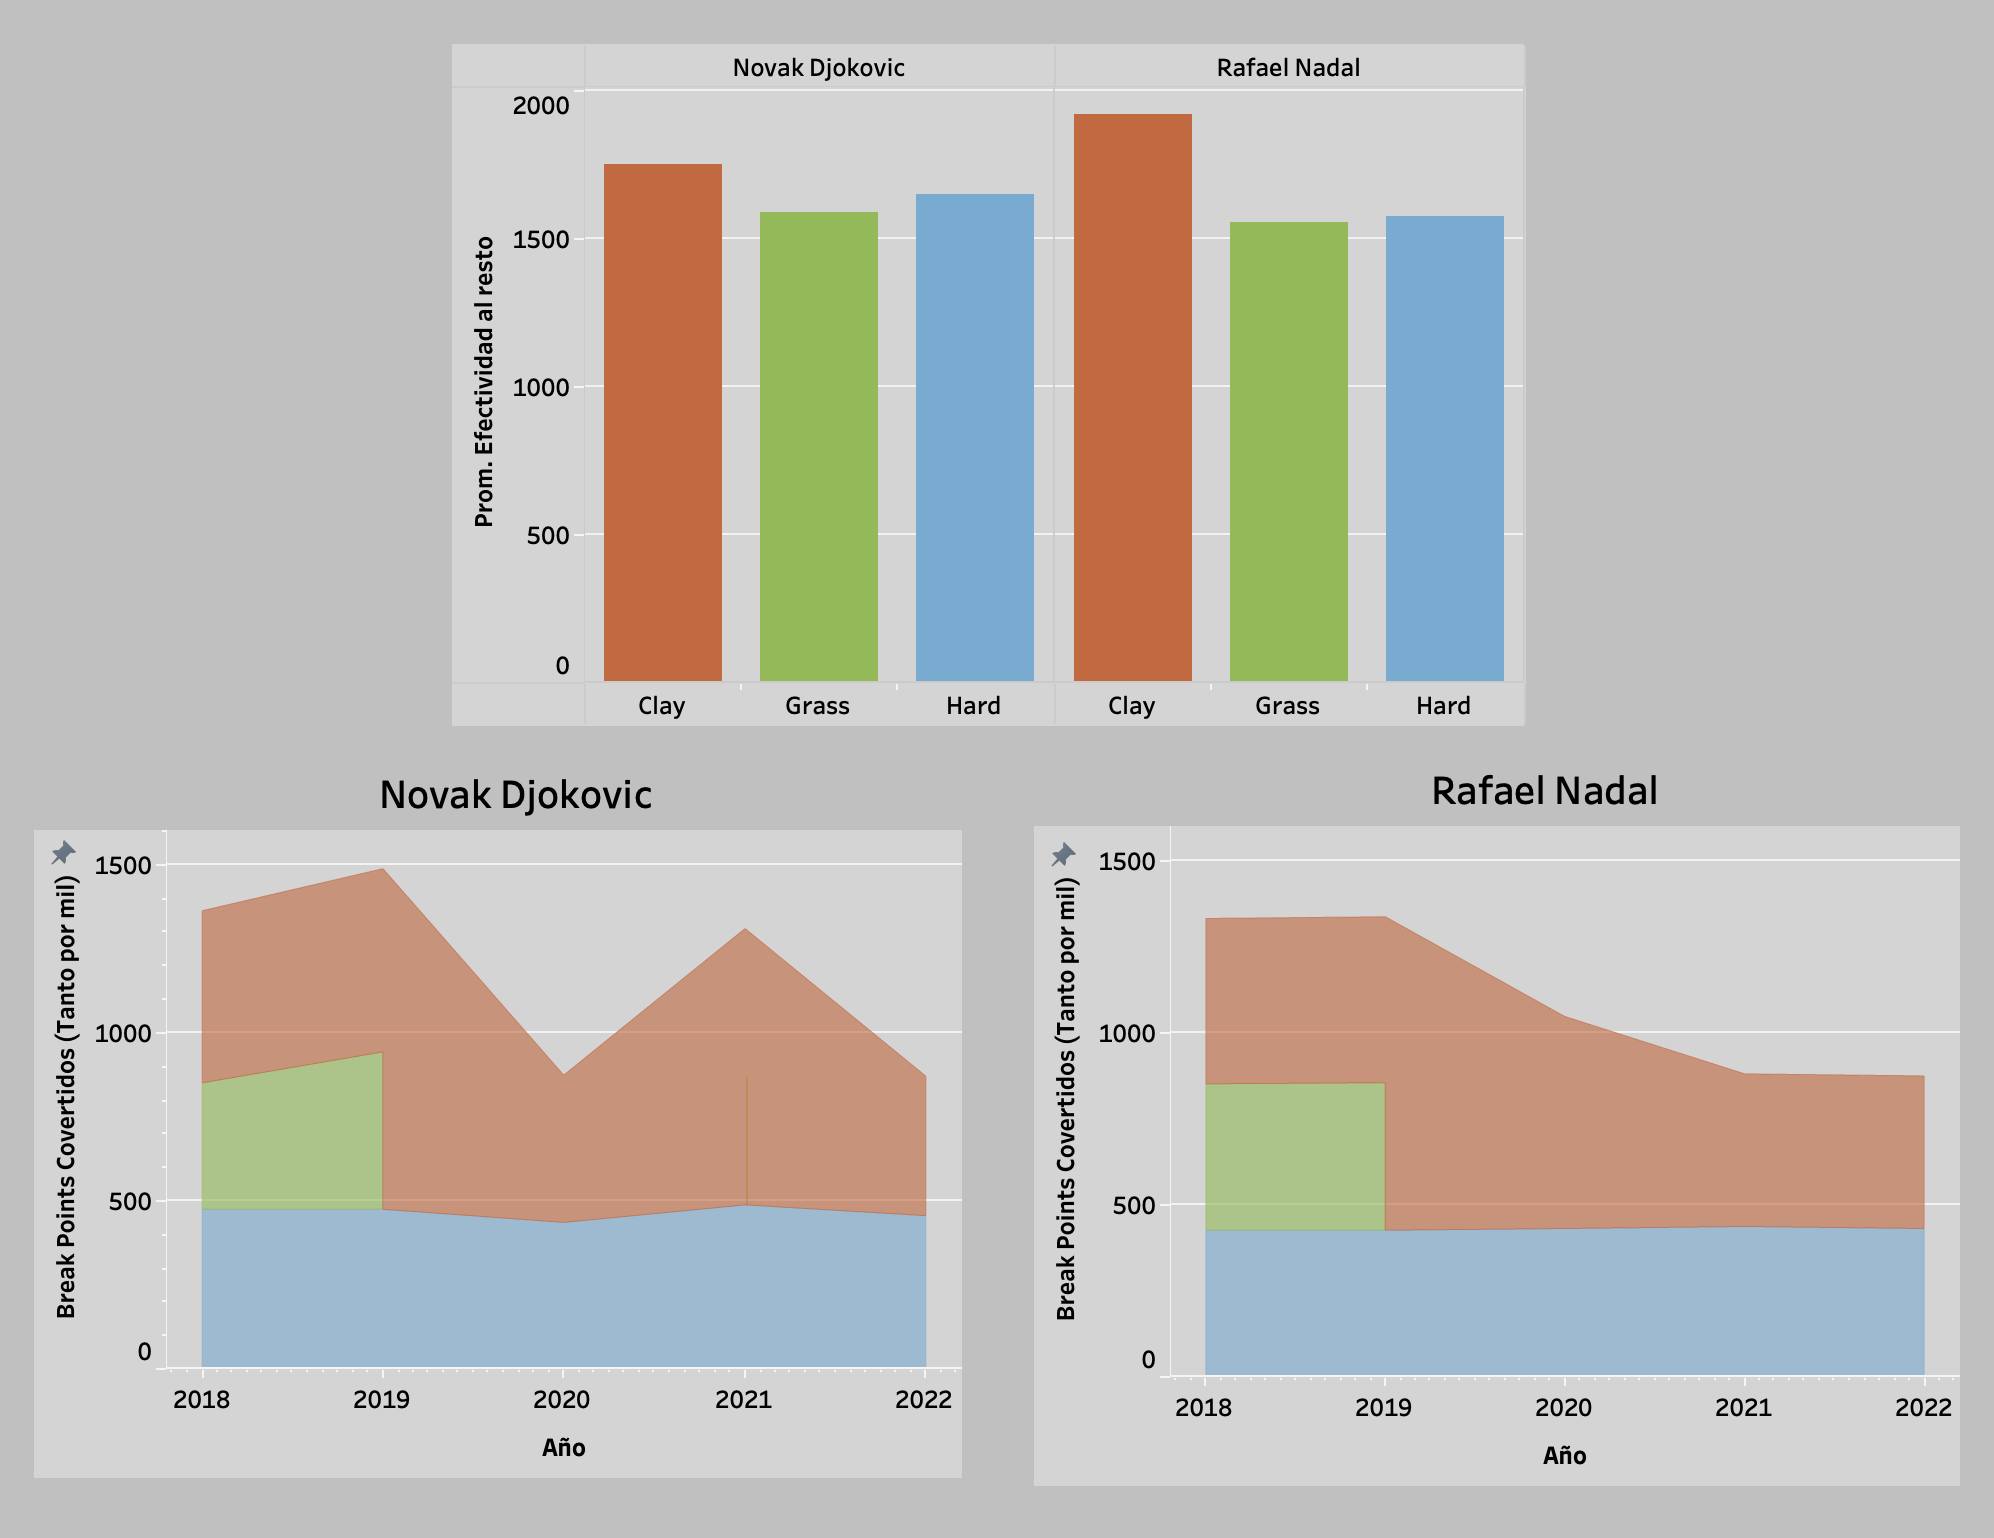

The page's visual inventory and layout, read from the dashboard file:
{"tool":"tableau","page":{"name":"DashResto","canvas":[1000,800],"ordinal":1},"visuals":[{"type":"worksheet","title":"RestoFINAL","mark":"Automatic","rows":["Efectividad_al_resto"],"cols":["Jugador (Hoja 1 - EfecResto)","Superficie (Hoja 1 - EfecResto)"],"box":[227,10,538,355]},{"type":"text","box":[714,381,142,30]},{"type":"text","box":[188,383,142,30]},{"type":"worksheet","title":"BP FINALNAD","mark":"Area","rows":["Break_Points_Covertidos_pct (Hoja 1 - EfecResto)"],"cols":["Año (Hoja 1 - EfecResto)"],"box":[518,400,463,345]},{"type":"worksheet","title":"BP FINALDJO","mark":"Area","rows":["Break_Points_Covertidos_pct (Hoja 1 - EfecResto)"],"cols":["Año (Hoja 1 - EfecResto)"],"box":[18,402,464,339]}]}

Visuals, with their boxes on the page's 1000x800 design canvas (x1, y1, x2, y2). These are canvas units, not pixel positions in the 1994x1538 screenshot, which may show the page scaled, cropped or inside an application window:
"RestoFINAL" worksheet: bbox=(227, 10, 765, 365)
text: bbox=(714, 381, 856, 411)
text: bbox=(188, 383, 330, 413)
"BP FINALNAD" worksheet (Area marks): bbox=(518, 400, 981, 745)
"BP FINALDJO" worksheet (Area marks): bbox=(18, 402, 482, 741)
